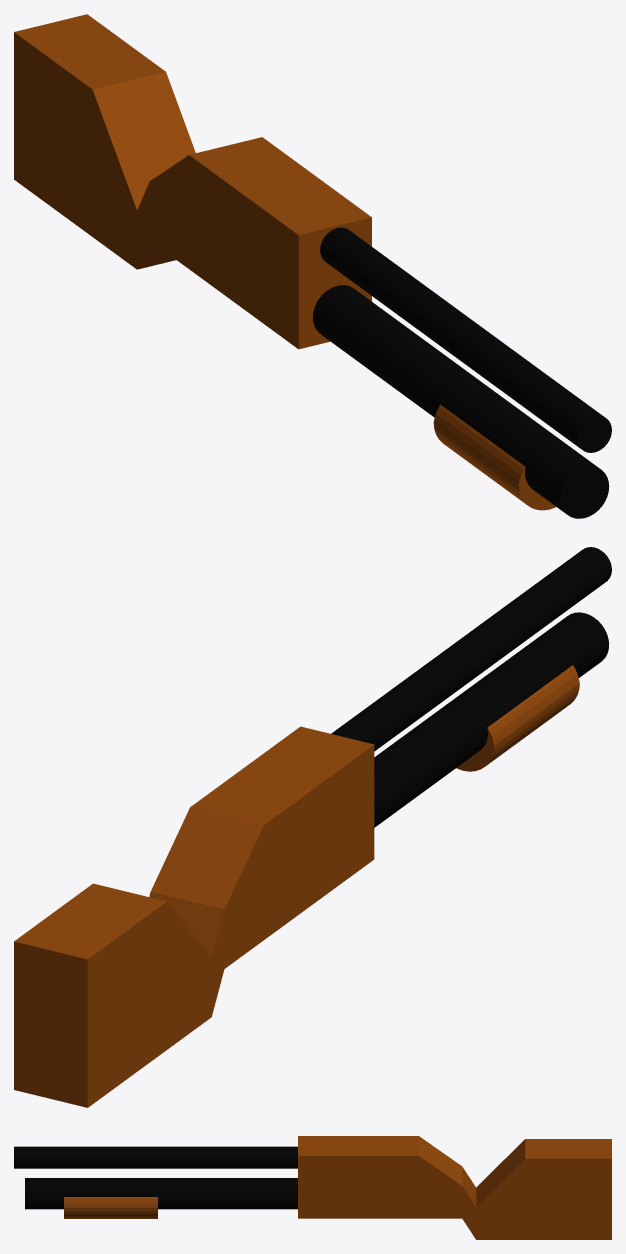
Rendered from shotgun.fbx.
3 renders of one model, top to bottom at view 1: azimuth 30°, elevation 25°; view 2: azimuth 150°, elevation 25°; view 3: azimuth 270°, elevation 25°, orthographic. The views are drawn at different scales.
Visible parts, largest first — view 1: Cube, Cylinder.001, Cylinder, Cylinder.002; view 2: Cube, Cylinder.001, Cylinder, Cylinder.002; view 3: Cube, Cylinder.001, Cylinder, Cylinder.002.
Boxes of the visible parts, x1,y1,x2,y2 form: Cube: (14,14,371,349); Cylinder.001: (312,285,609,518); Cylinder: (320,227,611,452); Cylinder.002: (433,404,555,510); Cube: (14,726,374,1107); Cylinder.001: (374,612,608,827); Cylinder: (331,547,611,751); Cylinder.002: (456,665,579,771); Cube: (298,1136,611,1239); Cylinder.001: (25,1178,297,1209); Cylinder: (14,1146,297,1168); Cylinder.002: (64,1197,157,1218).
Bounding box in the file's own units: 50.88 × 101 × 652.
